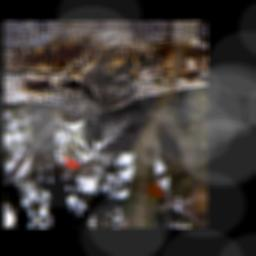Woodpecker: (61, 92, 160, 177)
